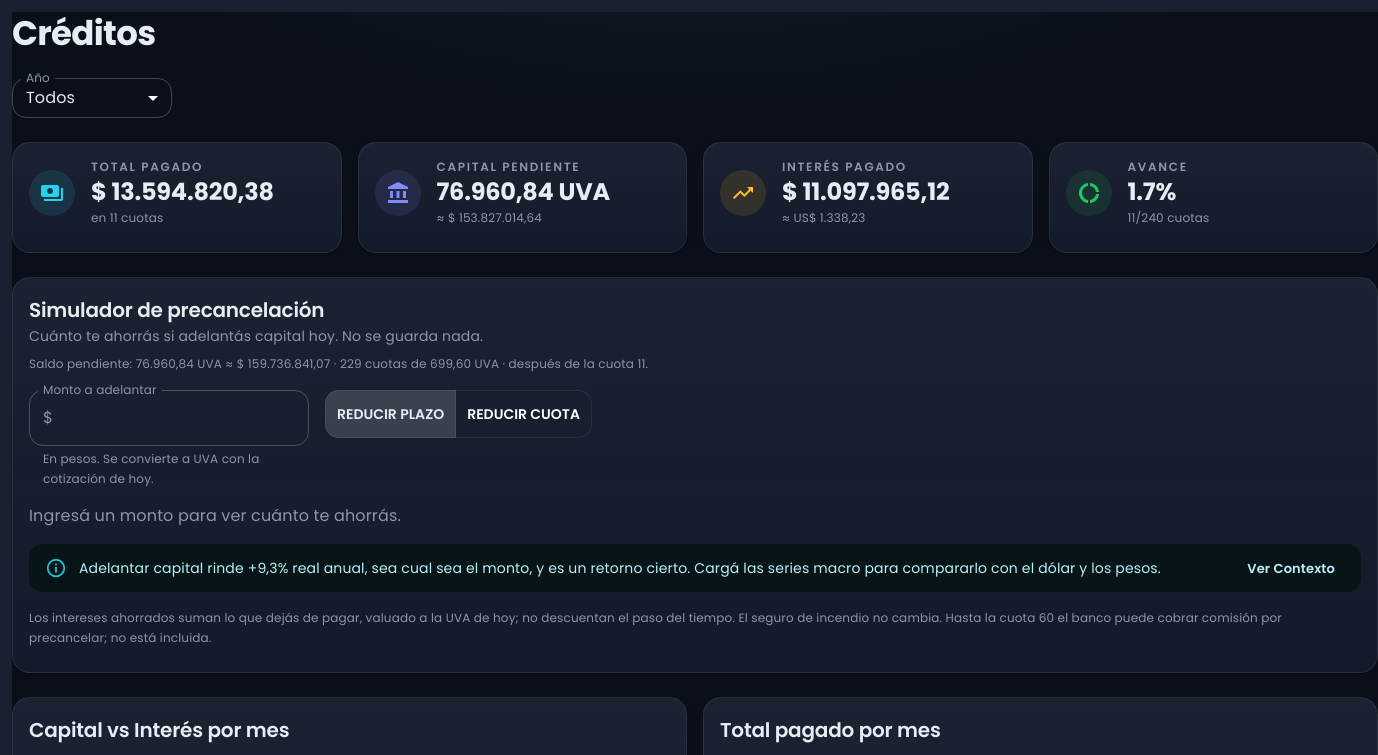
Test case: CreditsPage › ofrece en el filtro de Año los años de los cupones
The width and height of the screenshot is (1378, 755).
Click the dropdown named "año". click: (51, 98)
box: [26, 86, 75, 110]
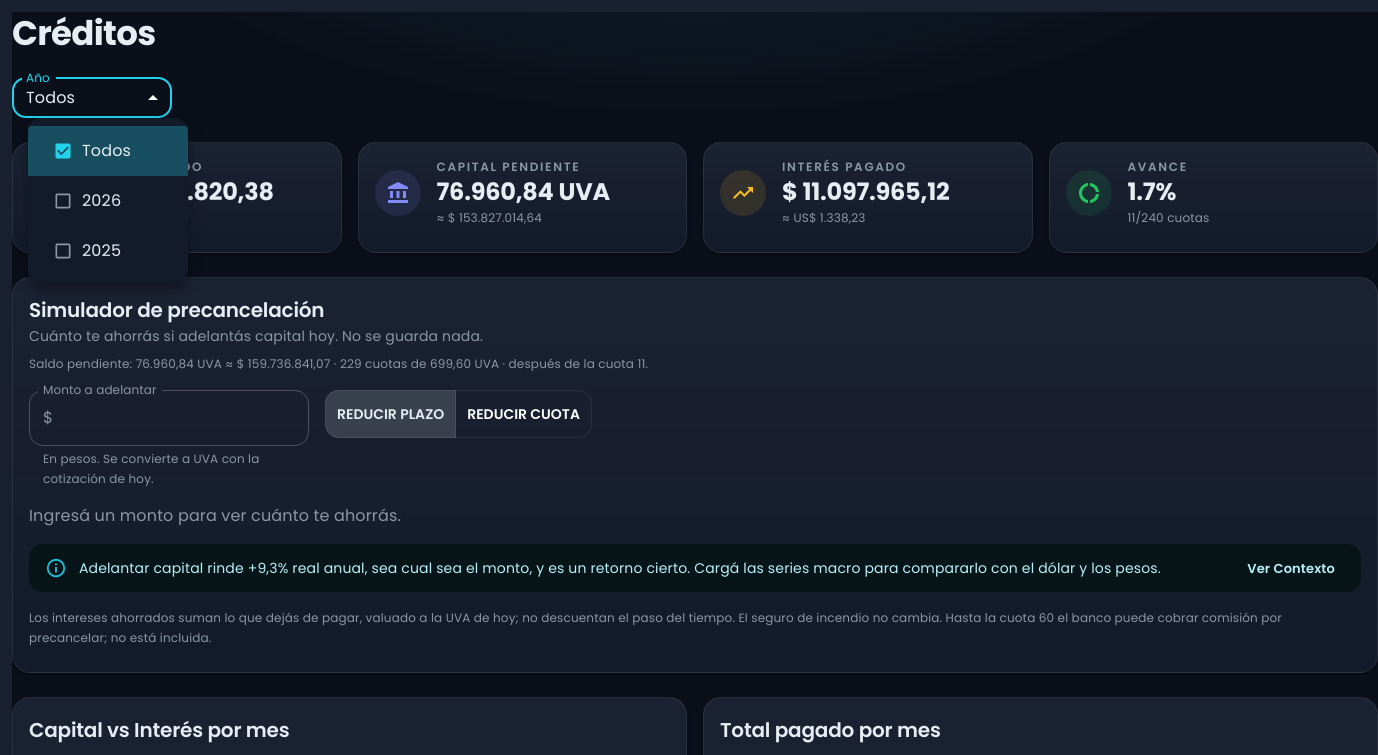
Result: the option "2025" is shown at [53, 239, 121, 262]
Result: the option "2026" is shown at [53, 189, 121, 212]
